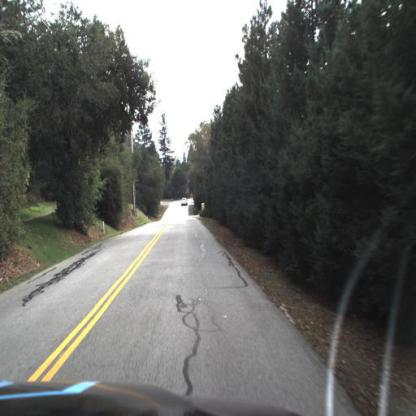car: (179, 194, 189, 213), (180, 193, 190, 210)
